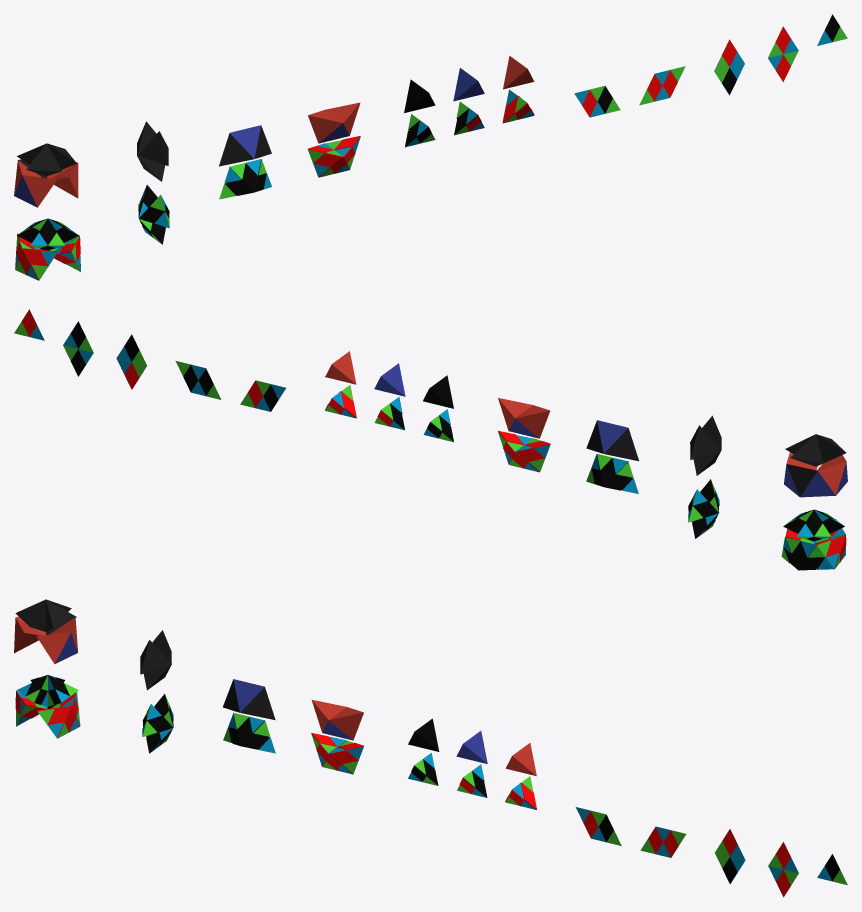
File: 00_emf_tet.fbx
3 views of the same model, one above another, from view 1: azimuth 30°, elevation 25°; view 2: azimuth 150°, elevation 25°; view 3: azimuth 330°, elevation 25° (orthographic).
Parts seen in each view (by area): view 1: Body1 (×11), Body3 (×7), Body2 (×3), neg_tet (2); view 2: Body1 (×11), Body2 (×6), Body3 (×3), neg_tet (1); view 3: Body1 (×9), Body2 (×4), Body3 (×4), neg_tet (2).
Part boxes in pixels (box(x1,y1,x2,y2)): Body1 (×11): box(22, 55, 534, 207); Body3 (×7): box(22, 125, 342, 280); Body2 (×3): box(54, 110, 360, 271); neg_tet (2): box(26, 143, 61, 175); Body1 (×11): box(325, 351, 817, 570); Body2 (×6): box(498, 405, 845, 568); Body3 (×3): box(515, 420, 638, 493); neg_tet (1): box(790, 434, 823, 466); Body1 (×9): box(14, 617, 536, 809); Body2 (×4): box(37, 687, 363, 774); Body3 (×4): box(15, 640, 173, 737); neg_tet (2): box(15, 599, 45, 631).
Size of the model in its own units: 929 by 135 by 67.7.
